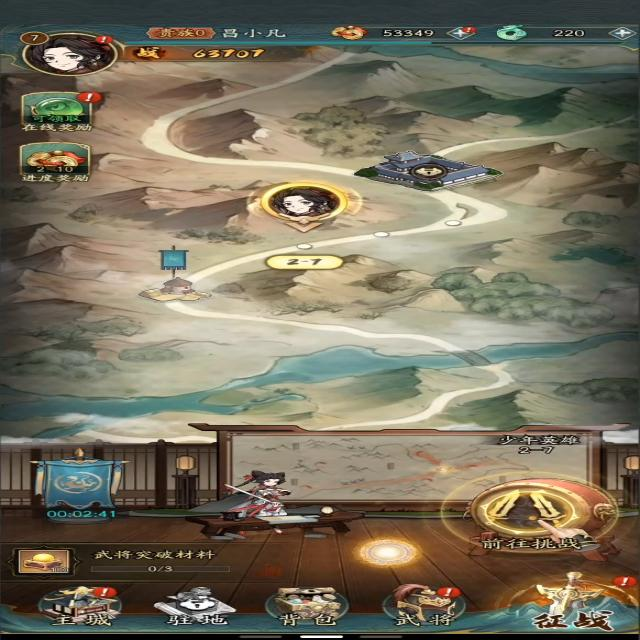hint-guide: (482, 491, 602, 557)
hint-reddot: (77, 90, 105, 108), (432, 587, 468, 600), (87, 586, 121, 598), (612, 576, 640, 588), (93, 32, 114, 47), (458, 26, 478, 36)
navigation-bag: (264, 583, 351, 627)
navigation-fight: (497, 570, 638, 632)
navigation-hero: (381, 582, 475, 629)
navigation-main: (28, 580, 132, 631)
navigation-role: (9, 26, 141, 83)
navigation-station-off: (148, 582, 242, 629)
operation-challenge: (468, 478, 610, 552)
